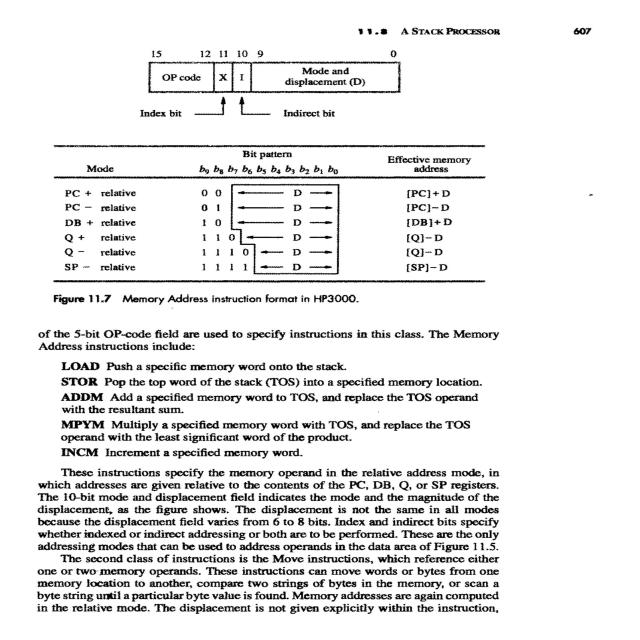diagram: (44, 43, 634, 307)
